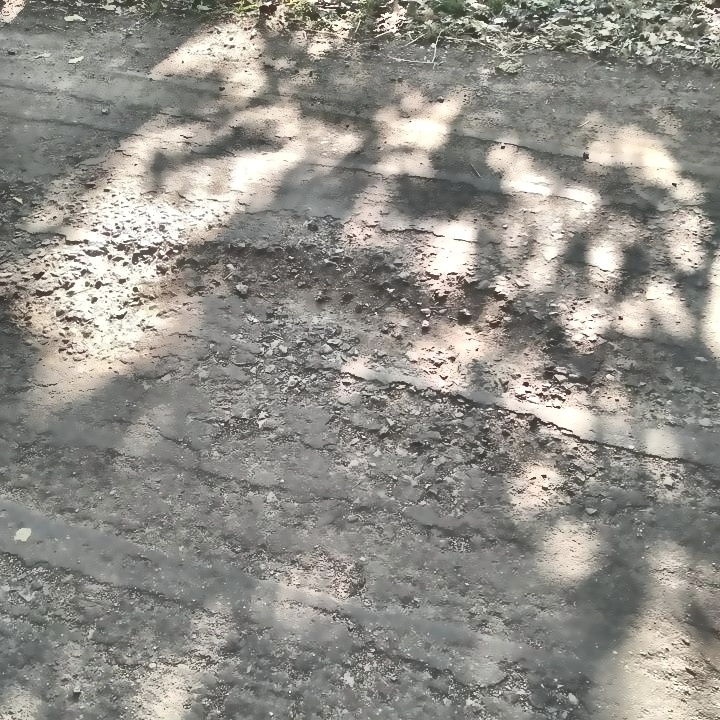pothole: (146, 234, 563, 391)
